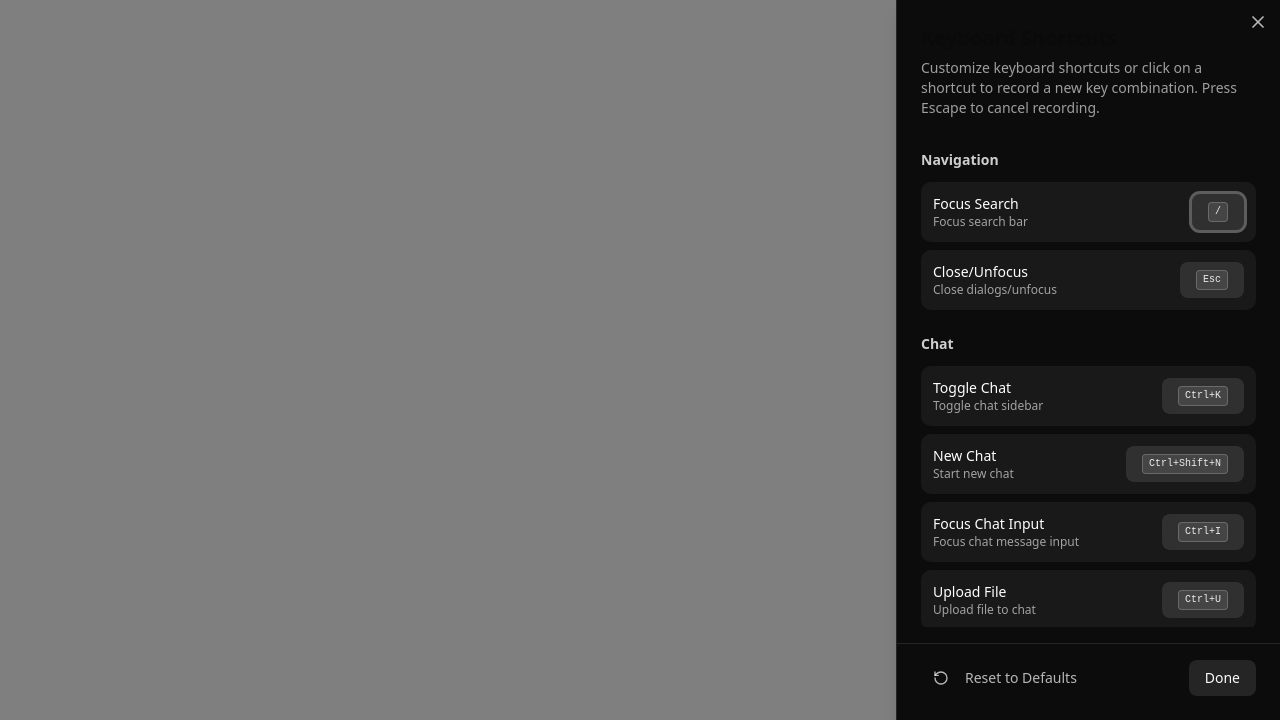
Test: ShortcutsDialog › should enter recording mode when shortcut button is clicked
This screenshot has width=1280, height=720.
Click the button "/".
click(1218, 212)  # box [1192,194,1244,230]
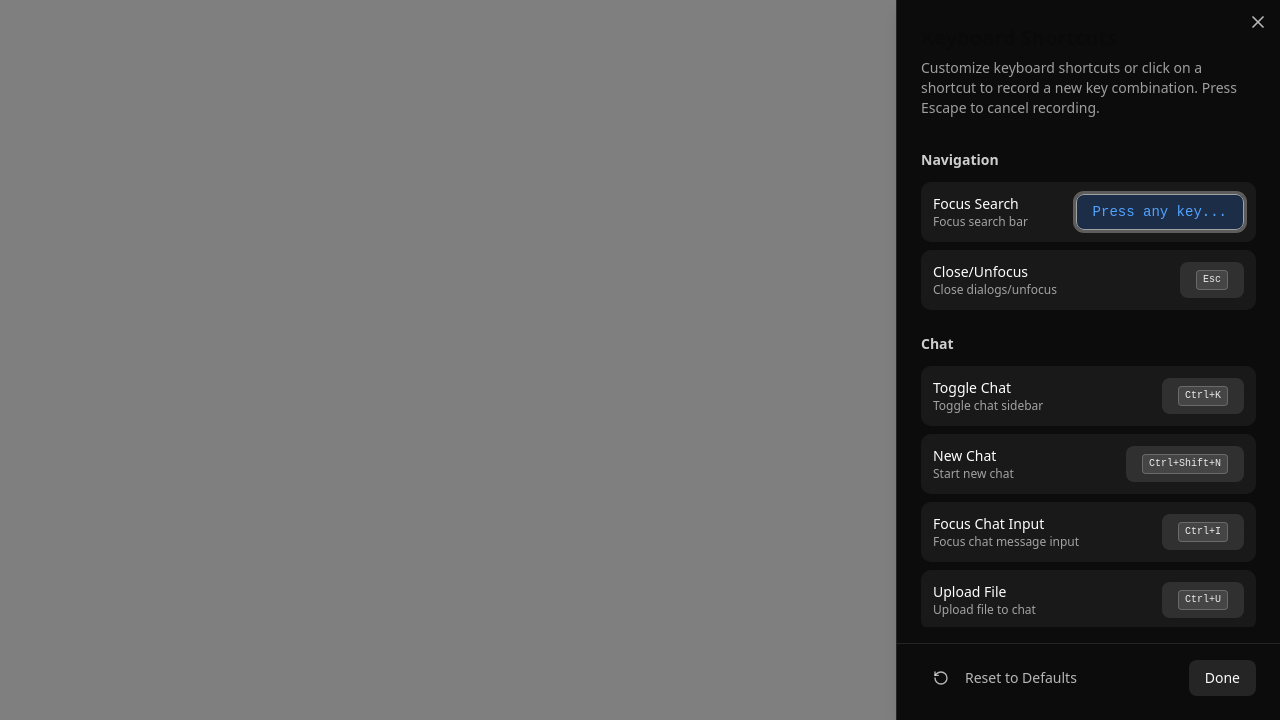
Check: the button "Press any key..." is shown, box [1076,194,1244,230]
